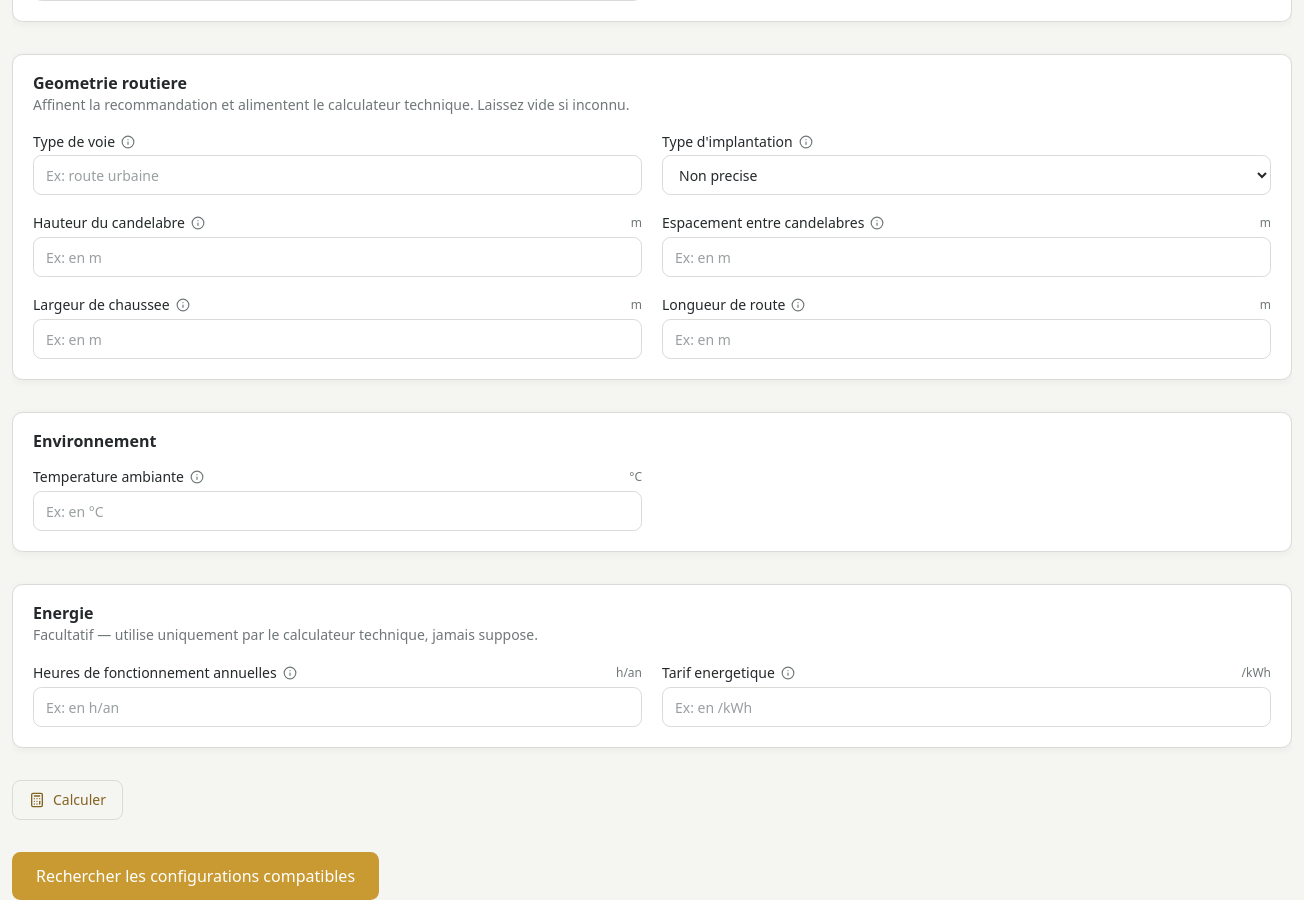
Test: NewCalculationPage › affiche une grandeur non calculable sans planter quand une donnee manque
This screenshot has width=1304, height=900.
(page scrolled)
Click the button "Calculer": (68, 800) [12,780,123,820]
(page scrolled)
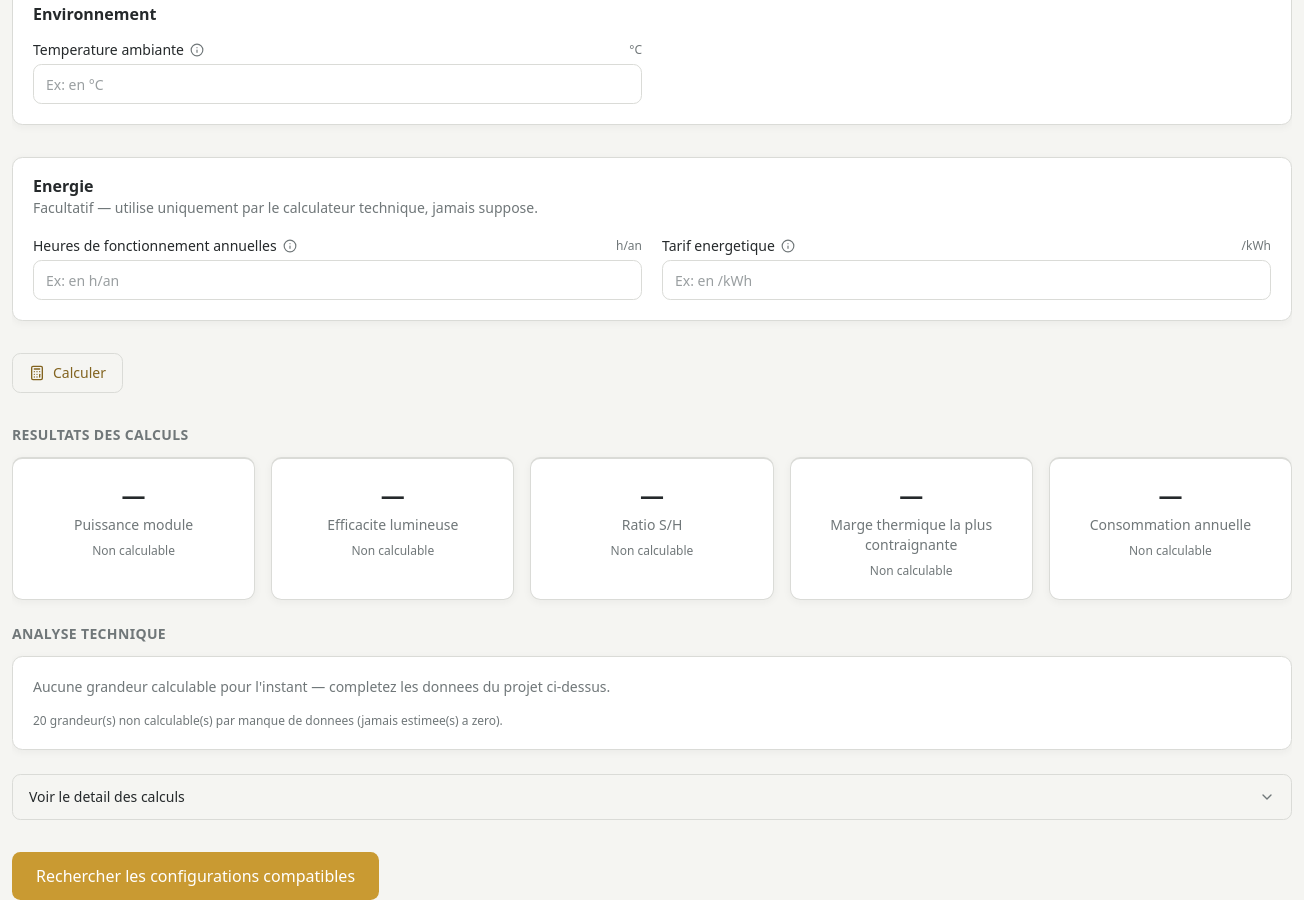
Expected: the text "Puissance module" is shown, [74,515,193,534]
